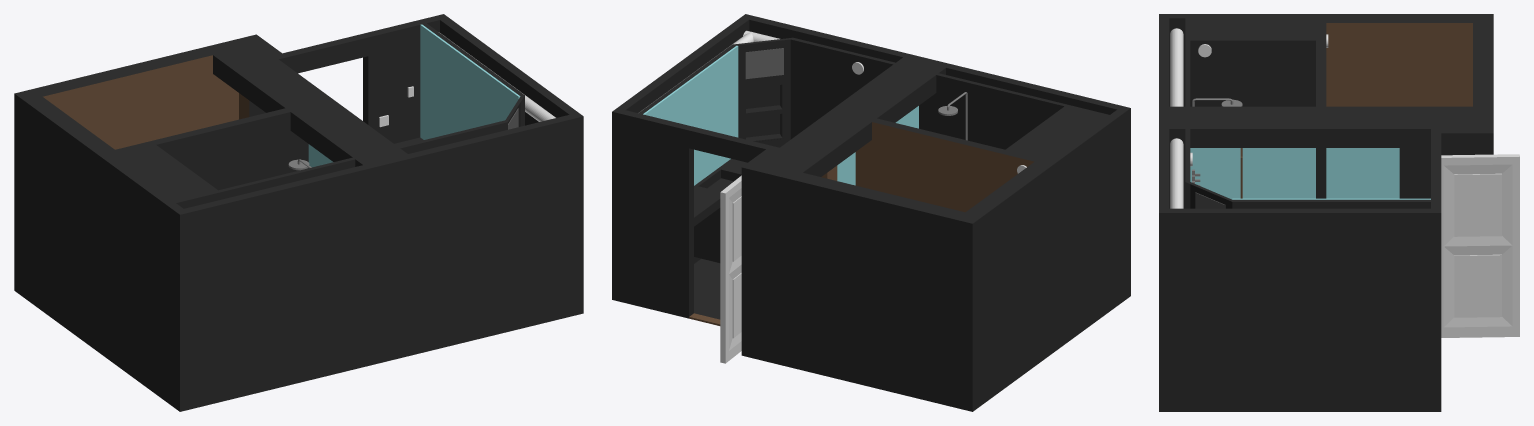
The model's file is Sparum4-5fh5--k7.glb.
3 renders of one model, left to right at view 1: azimuth 30°, elevation 25°; view 2: azimuth 150°, elevation 25°; view 3: azimuth 270°, elevation 25°, orthographic. The views are drawn at different scales.
Parts seen in each view (by area): view 1: Vägg bak yttre, Cube.005, Cube.016, Cube.012, Cube.009, Spegel, Cube.030, Cube.006, Cube.027, Cube.014, Cube.031, Vägg höger fram yttre (+3 smaller); view 2: Vägg höger fram yttre, Cube.005, Cube.030, Cube.009, Cube.012, Cube.014, Cube.037, Spegel, Vägg bak yttre, Cube.006, Cube.032, Cube.027 (+15 smaller); view 3: Cube.006, Cube.032, Cube.017, Cube.012, Cube.005, Cube.027, Plane, Cube.021, Plane.001, Vägg bak yttre, Cylinder, Cube.028 (+13 smaller).
Boxes of the visible parts, x1,y1,x2,y2 form: Vägg bak yttre: (184,115,574,409); Cube.005: (14,91,188,411); Cube.016: (28,40,257,149); Cube.012: (213,44,407,166); Cube.009: (106,108,290,190); Spegel: (420,24,520,139); Cube.030: (363,16,439,143); Cube.006: (435,14,583,315); Cube.027: (111,145,217,201); Cube.014: (174,157,355,208); Cube.031: (291,34,368,73); Vägg höger fram yttre: (23,36,252,94); Vägg höger fram yttre: (750,166,968,409); Cube.005: (964,106,1130,411); Cube.030: (620,110,693,318); Cube.009: (872,118,1047,212); Cube.012: (760,57,945,176); Cube.014: (936,73,1109,149); Cube.037: (790,37,895,139); Spegel: (643,45,738,185); Vägg bak yttre: (749,16,1121,141); Cube.006: (612,14,753,301); Cube.032: (720,175,741,363); Cube.027: (1005,106,1106,159); Cube.006: (1159,208,1441,411); Cube.032: (1441,154,1519,337); Cube.017: (1326,18,1472,106); Cube.012: (1169,106,1472,147); Cube.005: (1159,14,1493,208); Cube.027: (1190,18,1315,59); Plane: (1242,148,1315,198); Cube.021: (1326,148,1399,198); Plane.001: (1190,148,1240,199); Vägg bak yttre: (1159,18,1169,208); Cylinder: (1170,28,1183,208); Cube.028: (1232,199,1430,208).
Size of the model in its own units: 4.5 by 2.1 by 3.45.
